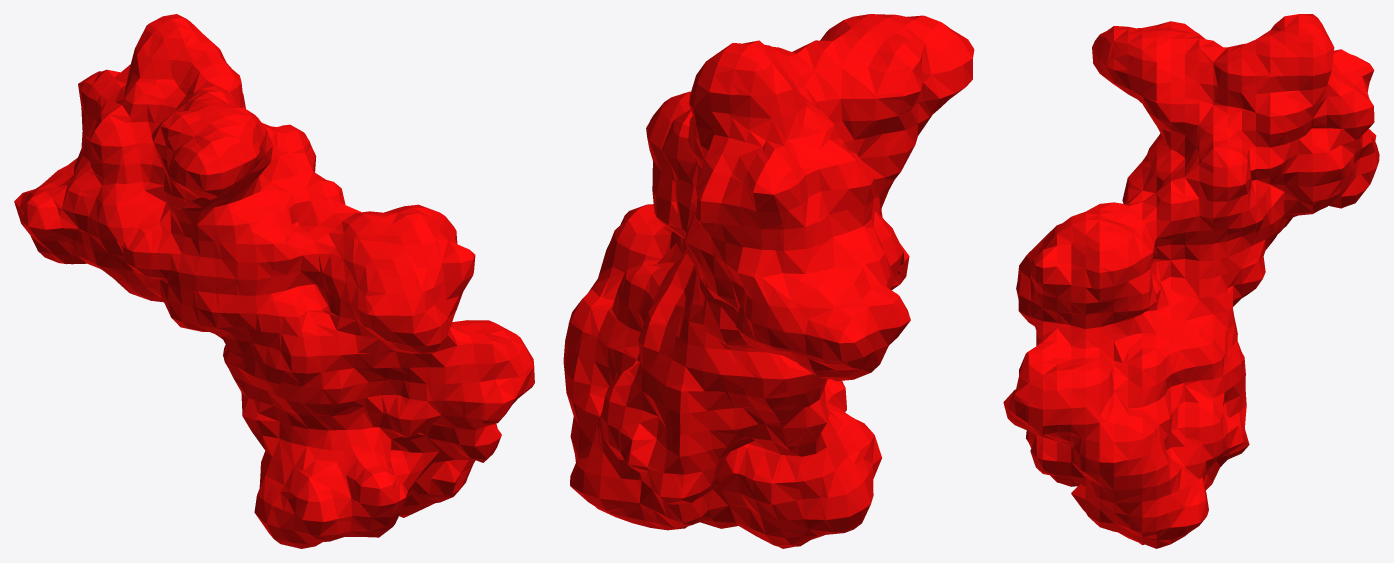
Rendered from Vesicle_trafficking_protein_SE_coarse.dae.
3 views of the same model, side by side, from view 1: azimuth 30°, elevation 25°; view 2: azimuth 150°, elevation 25°; view 3: azimuth 270°, elevation 25° (orthographic). The views are drawn at different scales.
Parts seen in each view (by area): view 1: Vesicle_trafficking_protein_SE; view 2: Vesicle_trafficking_protein_SE; view 3: Vesicle_trafficking_protein_SE.
Part boxes in pixels (x1,y1,x2,y2): Vesicle_trafficking_protein_SE: (14, 14, 534, 548); Vesicle_trafficking_protein_SE: (563, 14, 974, 548); Vesicle_trafficking_protein_SE: (1003, 14, 1379, 548).
Size of the model in its own units: 116 by 142 by 105.
